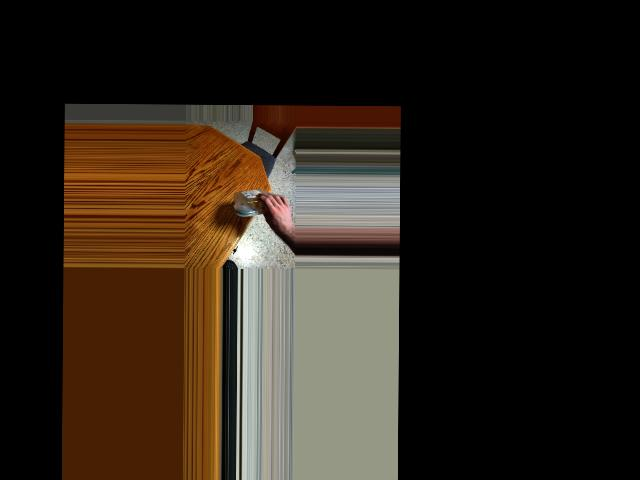cheese: (239, 186, 280, 221)
